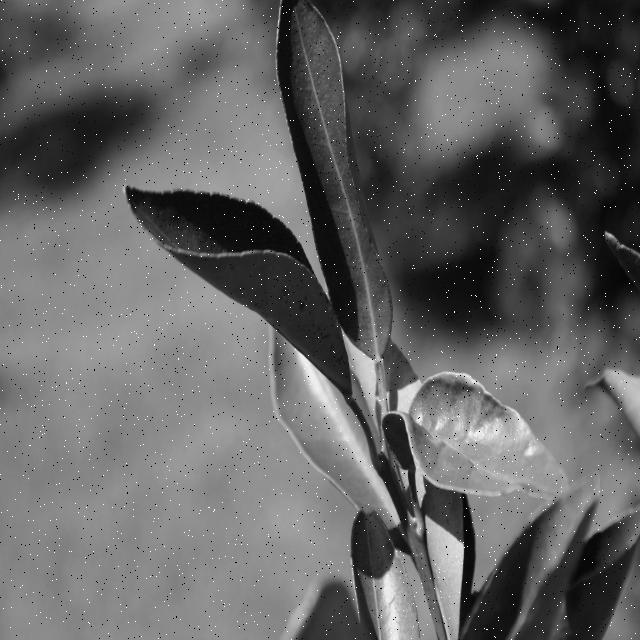melanose: (147, 190, 355, 386)
